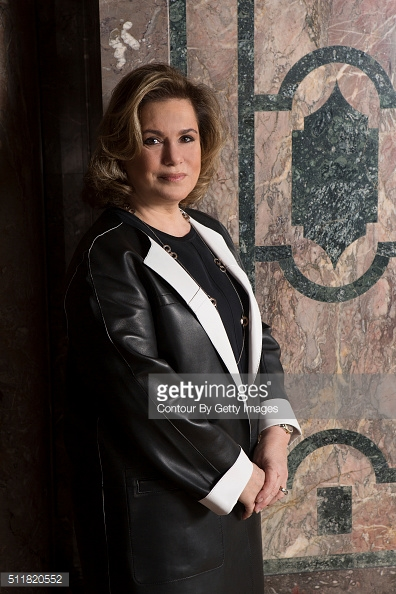em pe: (42, 59, 316, 594)
